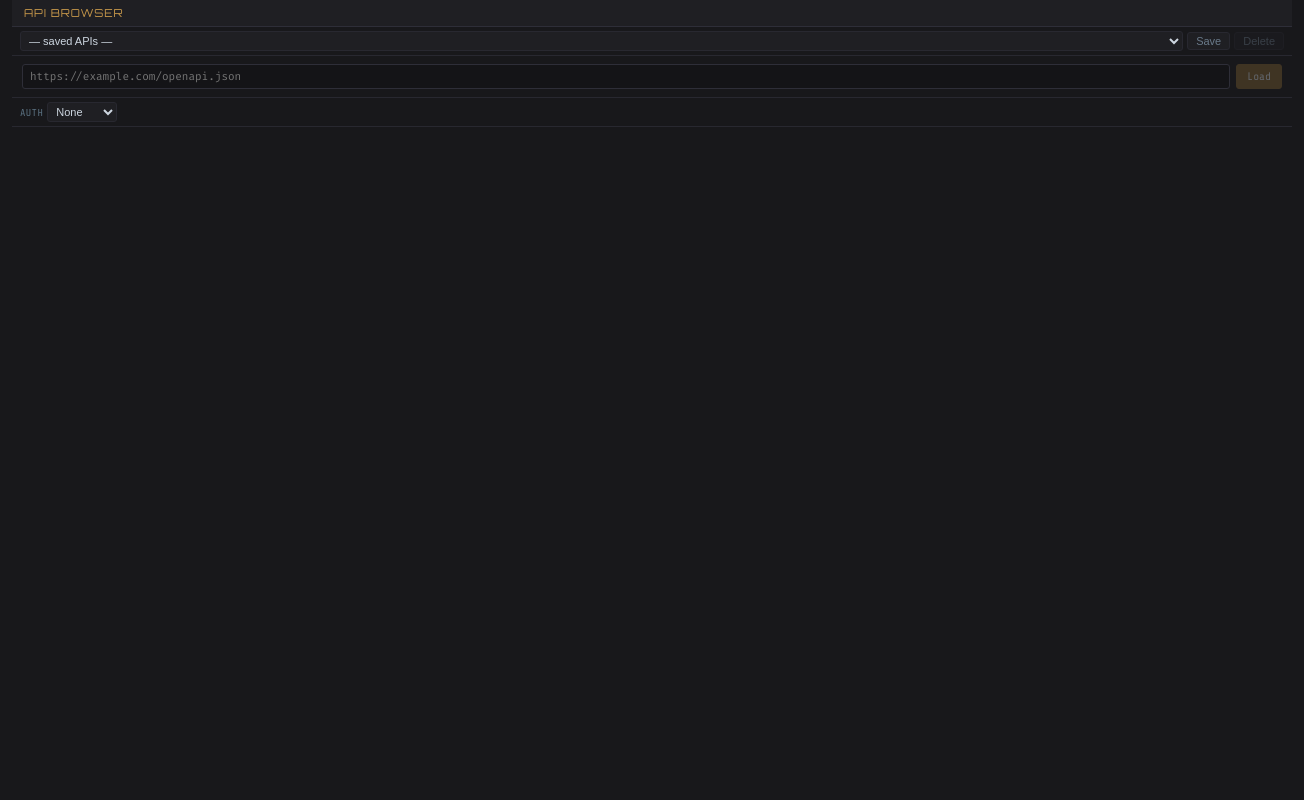
Test: Try-it form › shows body textarea for POST operation
The width and height of the screenshot is (1304, 800).
Type "https://api.example.com/openapi.json" into the field with placeholder "https://example.com/openapi.json" at (626, 76), box [22, 64, 1230, 89]
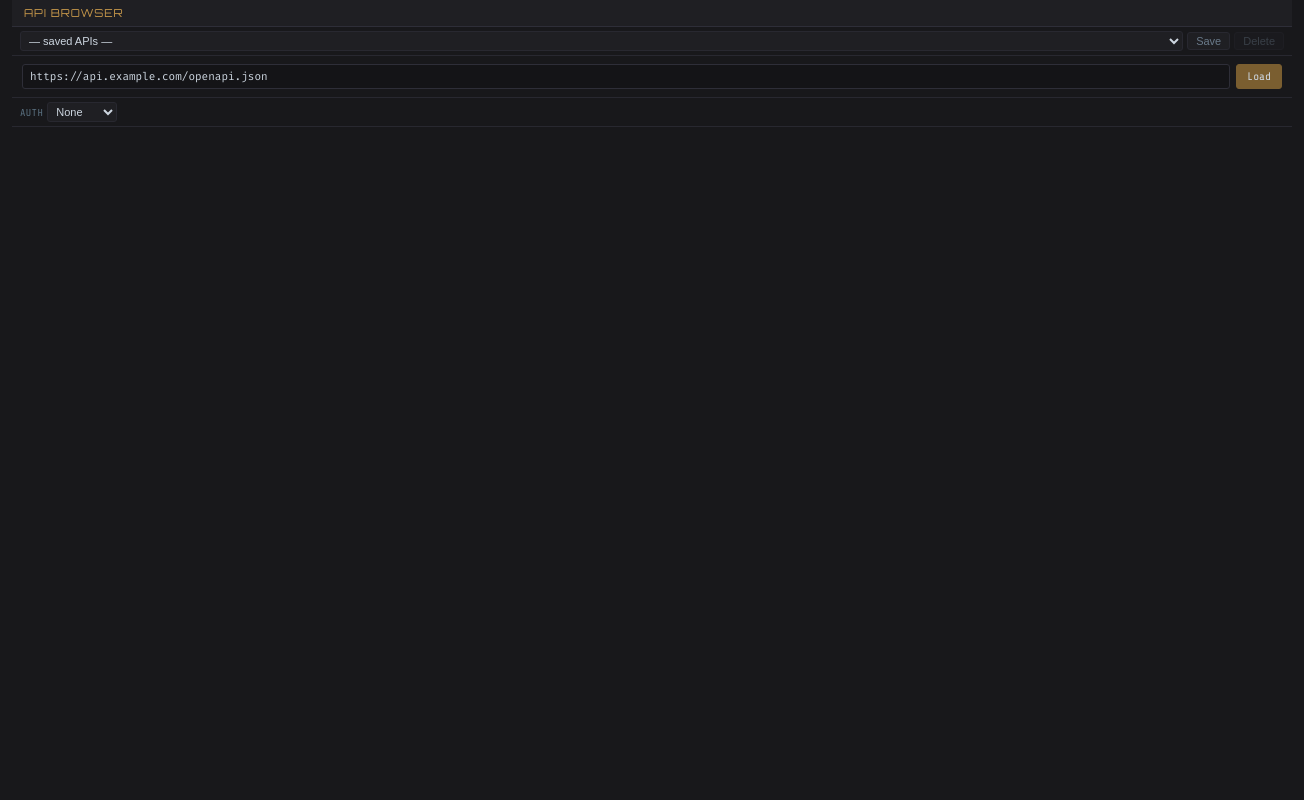
Click the button "Load" at (1259, 76), box [1236, 64, 1282, 89]
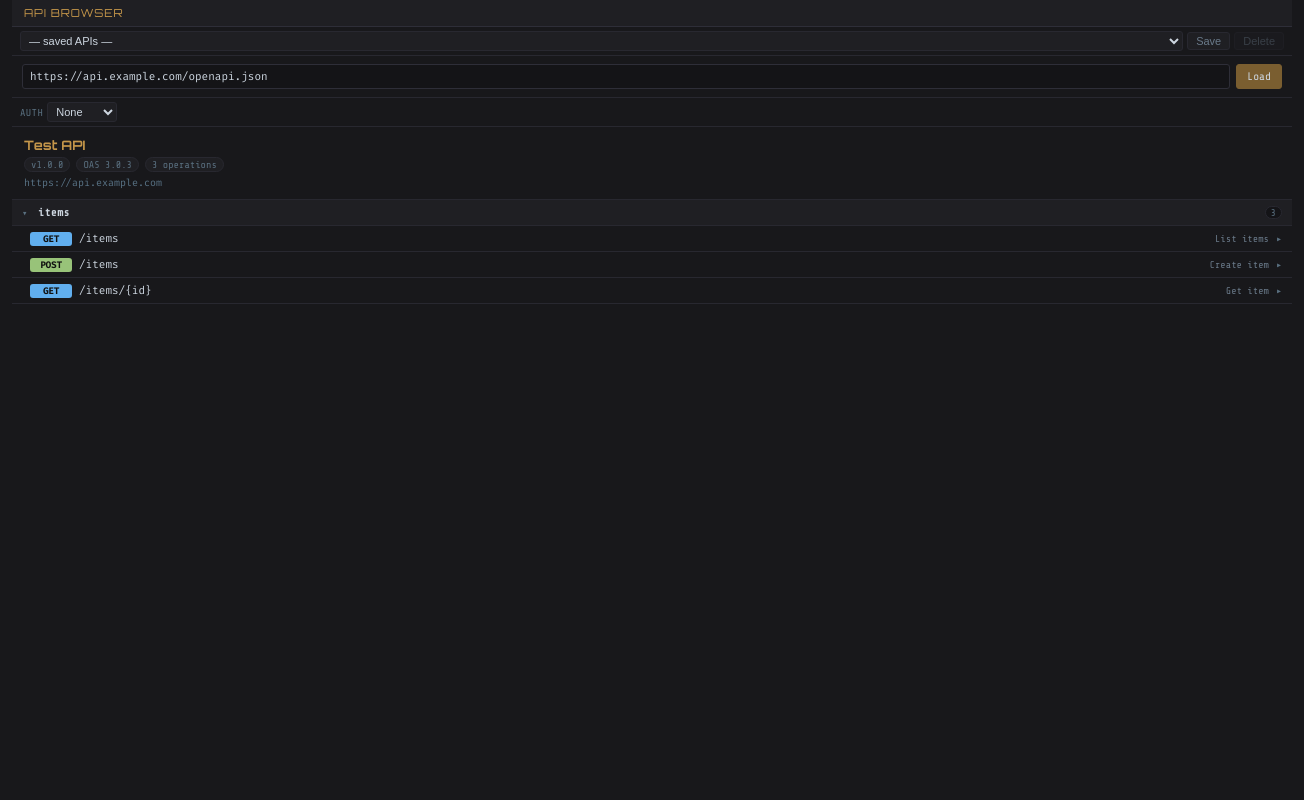
Result: the text "Test API" is shown at [24, 137, 85, 153]
Click the text "Create item" at (1239, 264), box [1210, 259, 1269, 270]
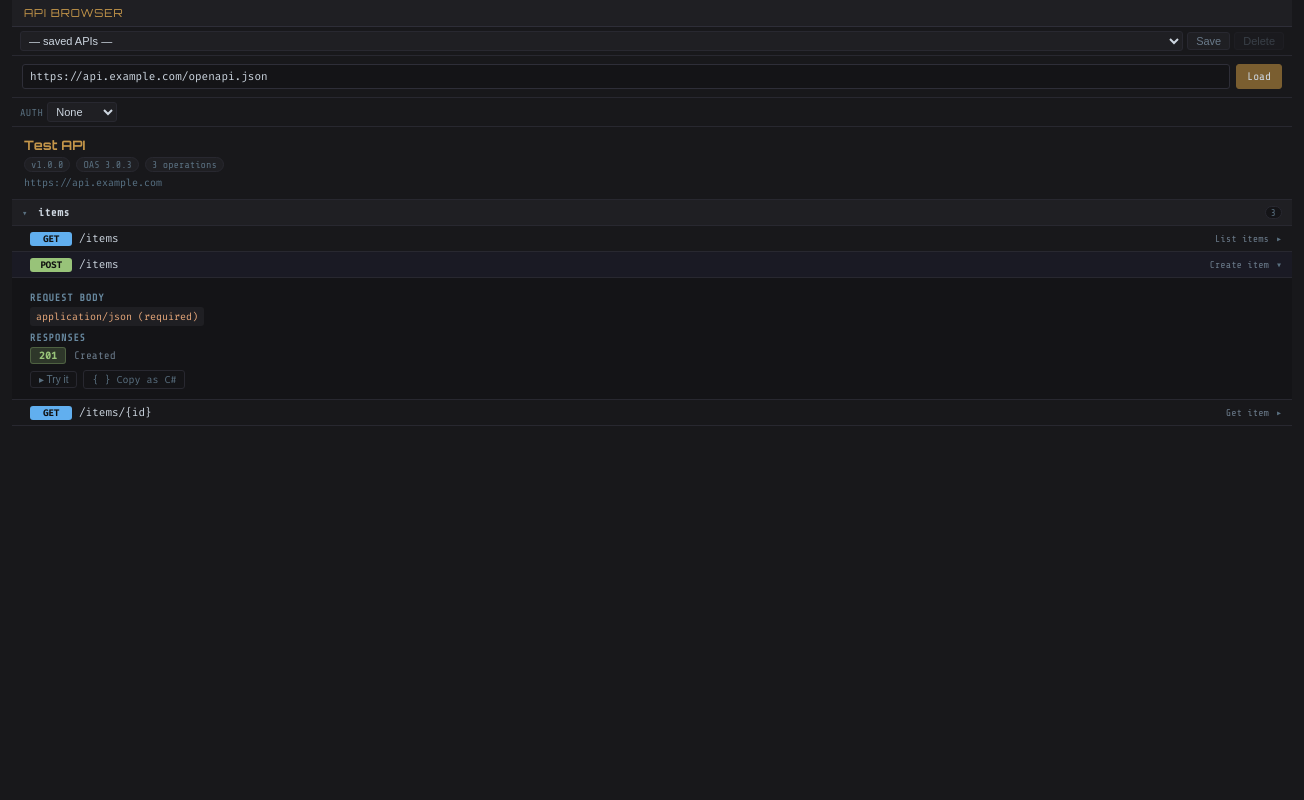
Click the button "▸ Try it" at (54, 380), box [30, 371, 78, 388]
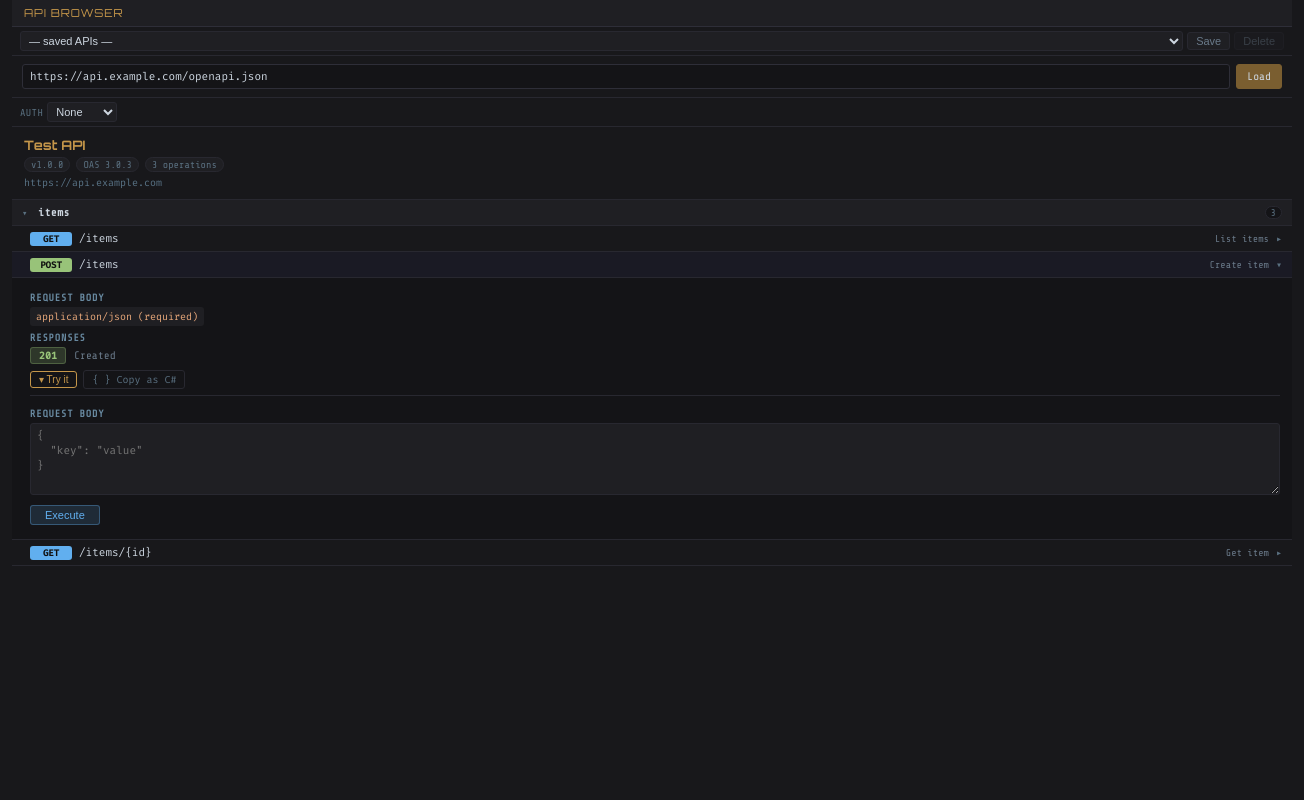
Result: the text box with placeholder "{ \"key\": \"value\" }" is shown at [30, 423, 1280, 495]
